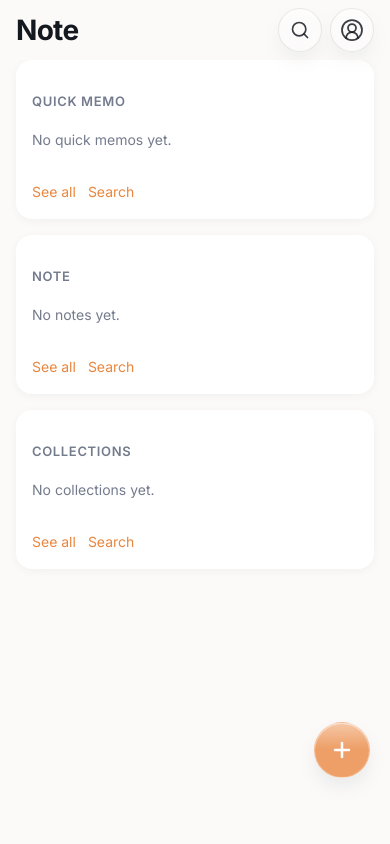
Test: Phase 9 Notes V3 UI › 12. creates a Collection
This screenshot has width=390, height=844.
Click the button with test id "notes-add-open". click: (342, 750)
box: x1=314 y1=722 x2=370 y2=778
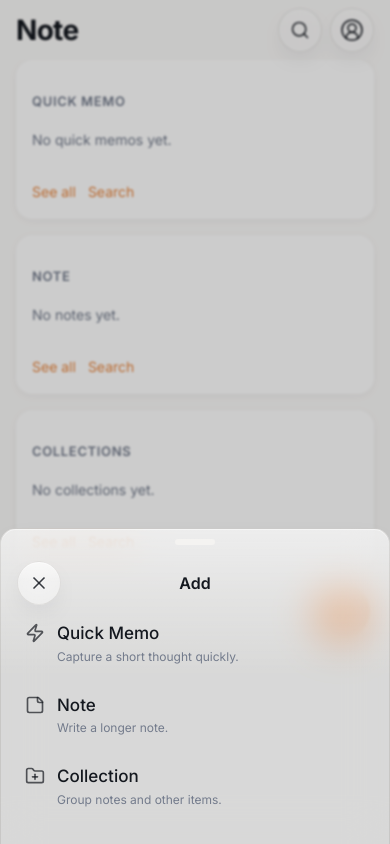
Click the button with test id "notes-add-collection". click: (98, 776)
box: x1=13 y1=752 x2=377 y2=819
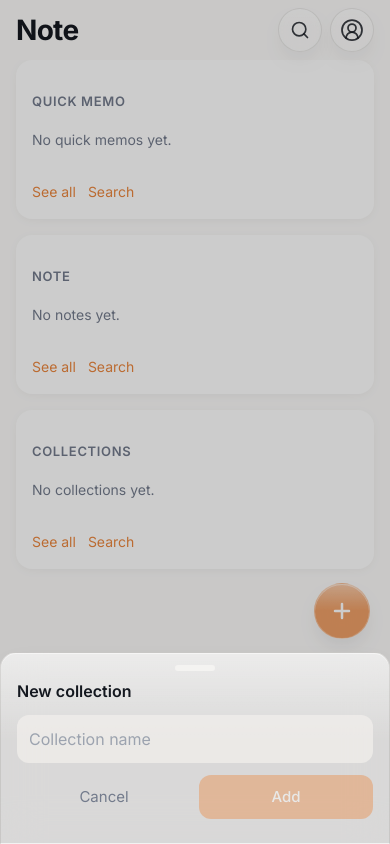
Type "旅行" into the field with test id "notes-name-input". click: (195, 739)
box: x1=17 y1=715 x2=373 y2=763
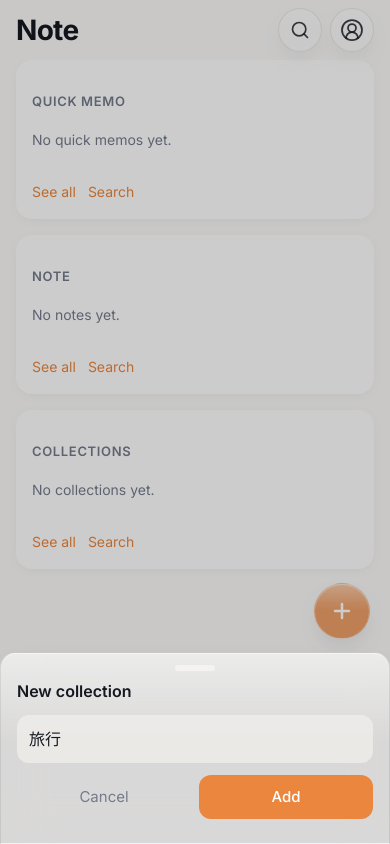
Click the button with test id "notes-name-submit". click: (286, 797)
box: x1=199 y1=775 x2=373 y2=819
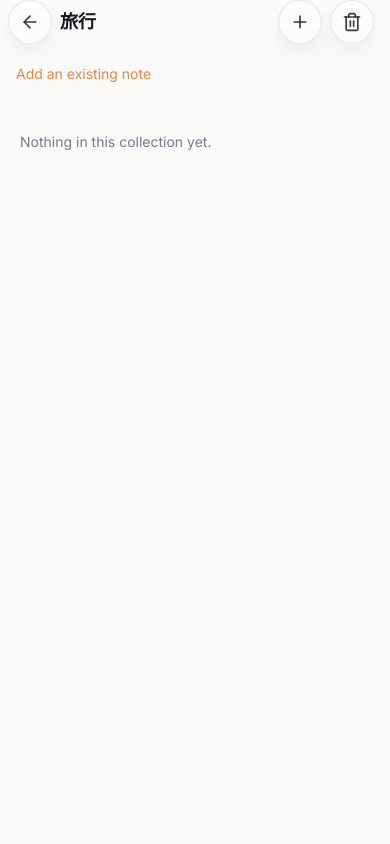
Now the element with test id "collection-page" is shown
